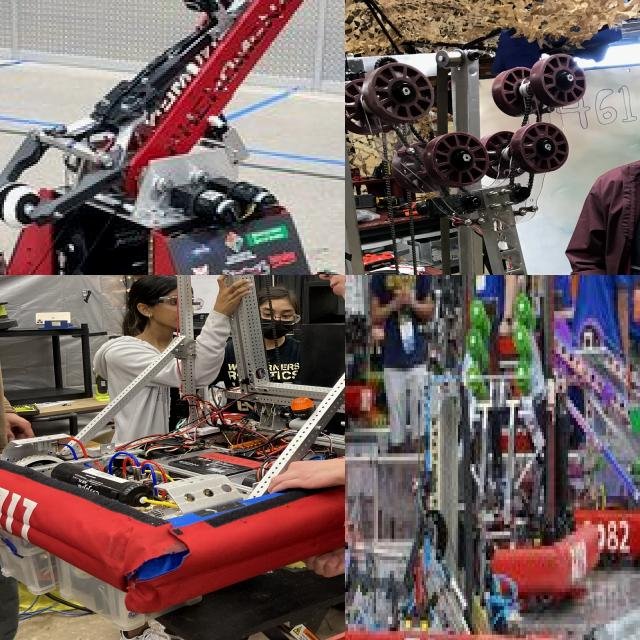FRC-Robots: (0, 275, 345, 621), (0, 0, 345, 275), (345, 29, 640, 275), (345, 361, 571, 640), (456, 364, 608, 624), (529, 314, 640, 586)
